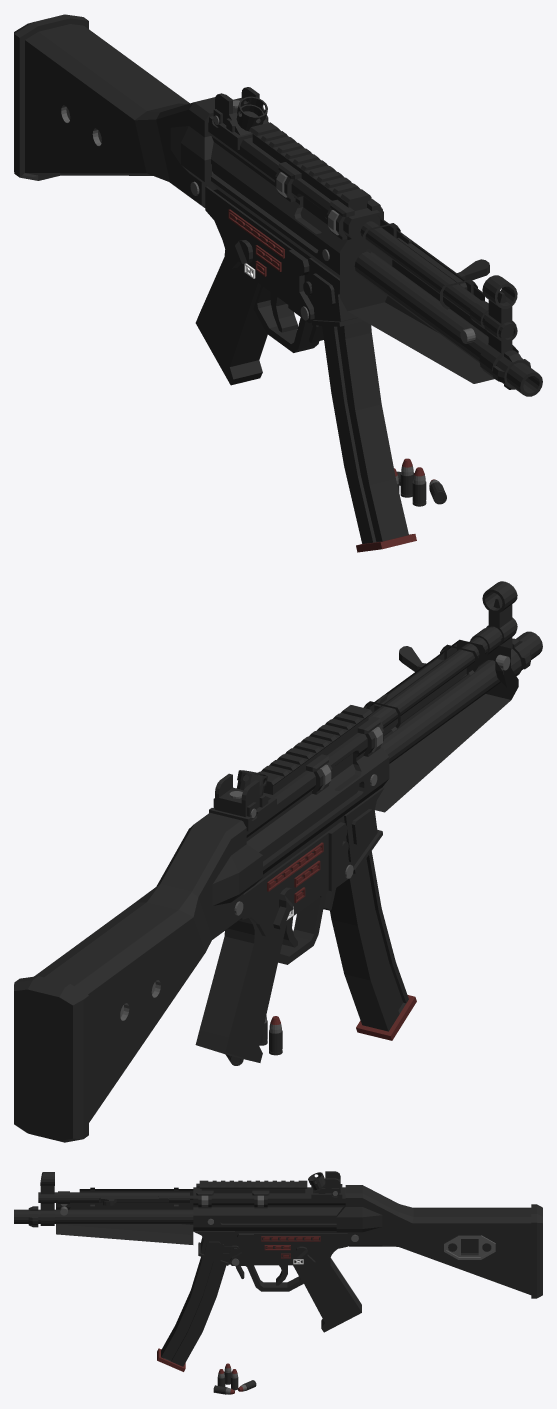
3 views of the same model, one above another, from view 1: azimuth 30°, elevation 25°; view 2: azimuth 150°, elevation 25°; view 3: azimuth 270°, elevation 25° (orthographic). The views are drawn at different scales.
Visible parts, largest first — view 1: MP5_Receiver_MP5_0; view 2: MP5_Receiver_MP5_0; view 3: MP5_Receiver_MP5_0.
Part boxes in pixels (x1,y1,x2,y2): MP5_Receiver_MP5_0: [14, 14, 542, 552]; MP5_Receiver_MP5_0: [14, 581, 542, 1142]; MP5_Receiver_MP5_0: [14, 1171, 542, 1394].
Size of the model in its own units: 0.00136 by 0.00329 by 0.00807.
1 material, 1 textured.
